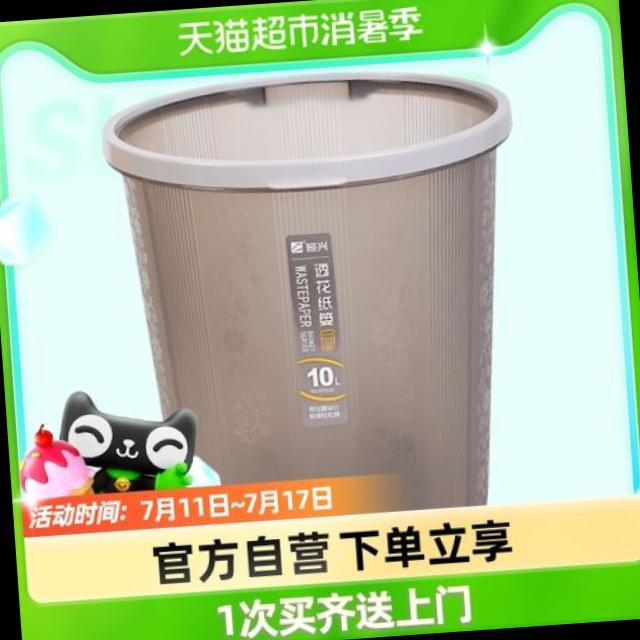dustbin: (94, 45, 542, 532)
